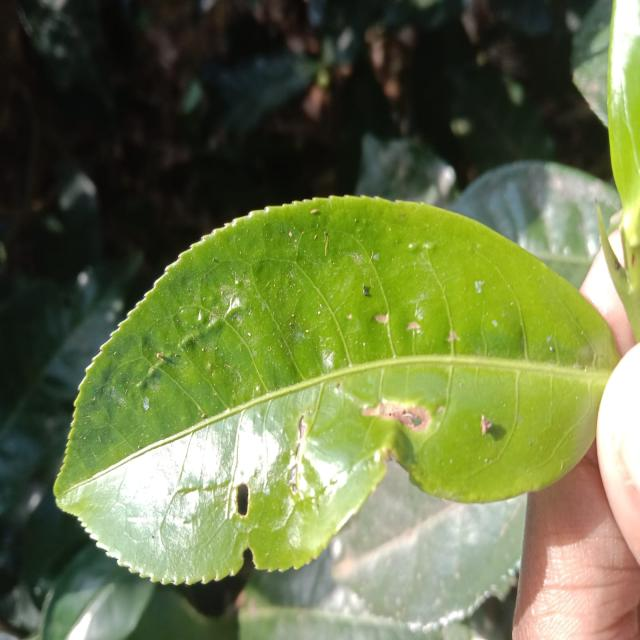Category B(2-4 days): (48, 188, 629, 593)
